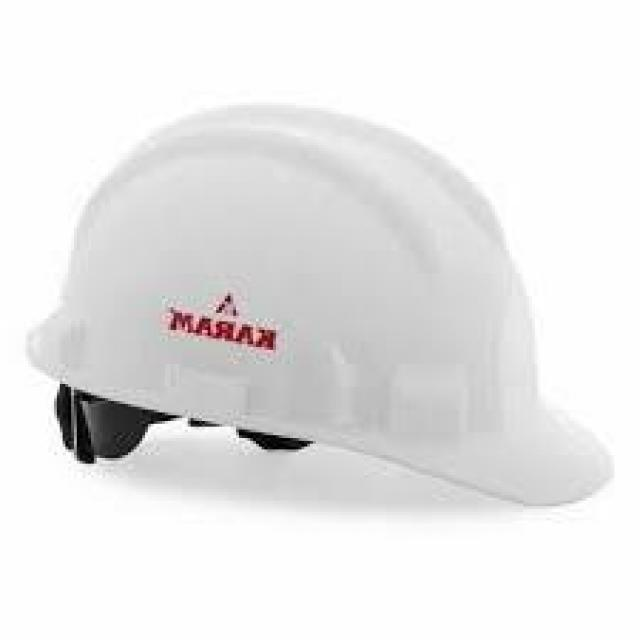Safety-Helmet: (20, 76, 623, 538)
